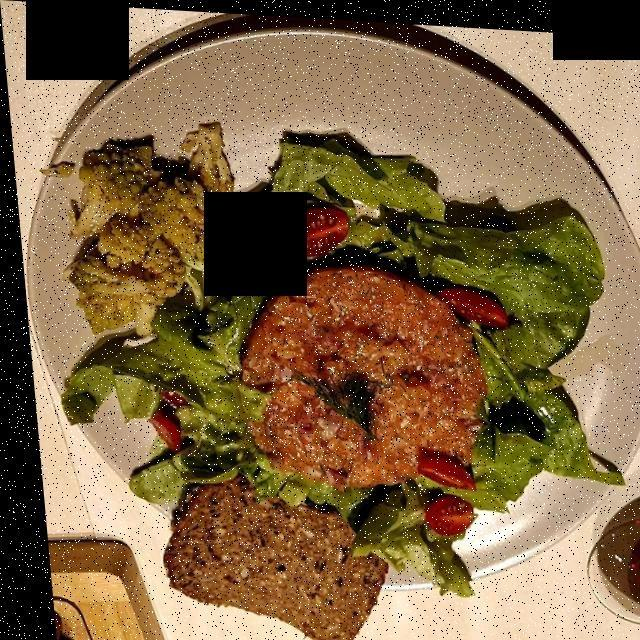romanesco: (46, 115, 245, 337)
salad: (48, 135, 616, 585), (222, 202, 497, 510)
tomato: (132, 195, 501, 531)
